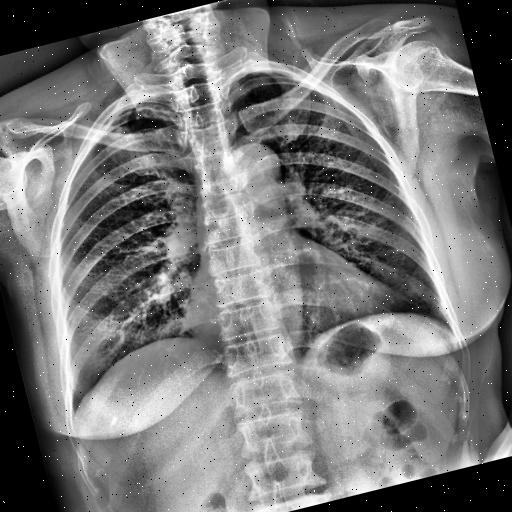0- Aortic enlargement: (220, 136, 288, 196), (226, 138, 290, 200), (225, 138, 284, 185)
11- Pleural thickening: (92, 94, 166, 126)
3- Cardiomegaly: (177, 256, 406, 373)
